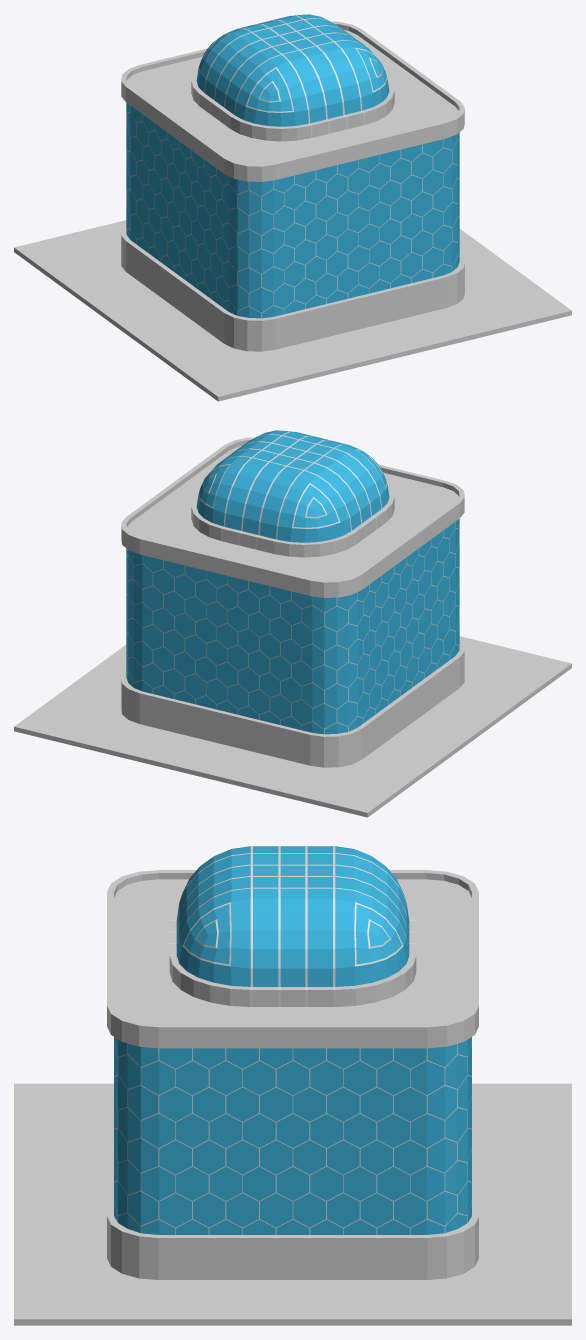
File: Chroma Skyscraper J.fbx
3 views of the same model, one above another, from view 1: azimuth 30°, elevation 25°; view 2: azimuth 150°, elevation 25°; view 3: azimuth 270°, elevation 25° (orthographic). The views are drawn at different scales.
Parts seen in each view (by area): view 1: Cube, Ground; view 2: Cube, Ground; view 3: Cube, Ground.
Boxes of the visible parts, x1,y1,x2,y2 form: Cube: (121,14,464,351); Ground: (14,220,571,401); Cube: (121,430,464,767); Ground: (14,636,571,817); Cube: (107,846,478,1279); Ground: (14,1083,571,1325).
Bounding box in the file's own units: 1200 × 800 × 1200.
